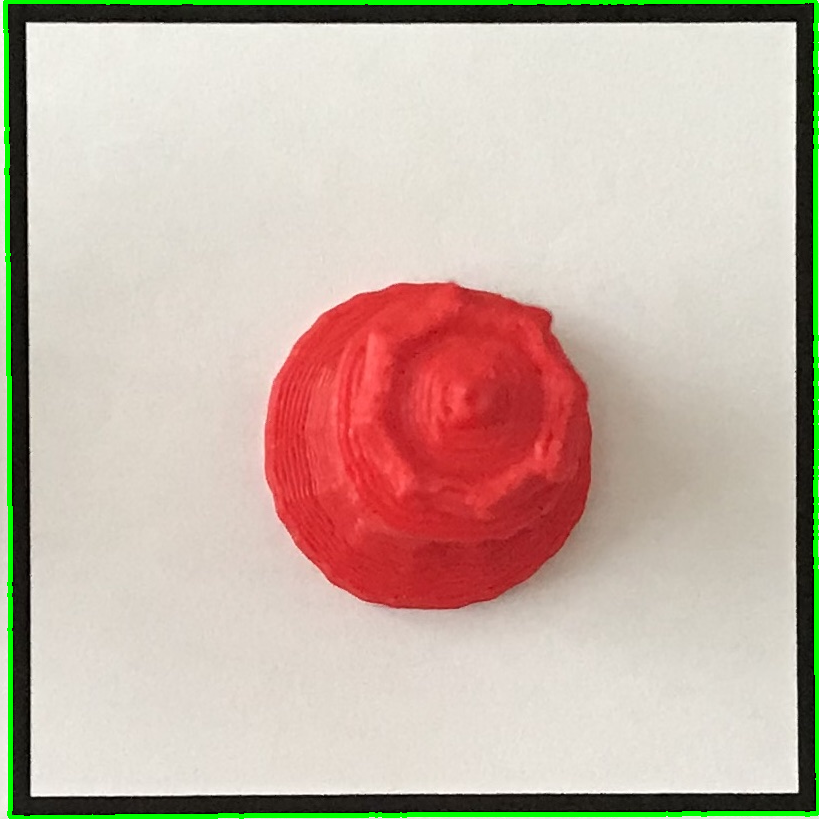Red Queen: (250, 272, 604, 622)
